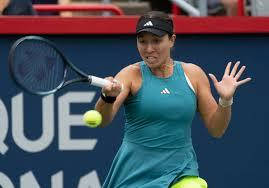elbow: (214, 125, 218, 129), (104, 114, 107, 118)
eye: (140, 40, 144, 44), (154, 40, 159, 43)
hand: (112, 81, 117, 89), (225, 81, 230, 86)
head: (135, 11, 176, 68)
hip: (124, 155, 128, 160), (185, 156, 190, 160)
nose: (144, 48, 155, 53)
player: (94, 11, 251, 188)
shoulder: (190, 69, 195, 73), (127, 70, 131, 73)
tennis ball: (83, 109, 102, 128)
tennis racket: (8, 34, 122, 96)
